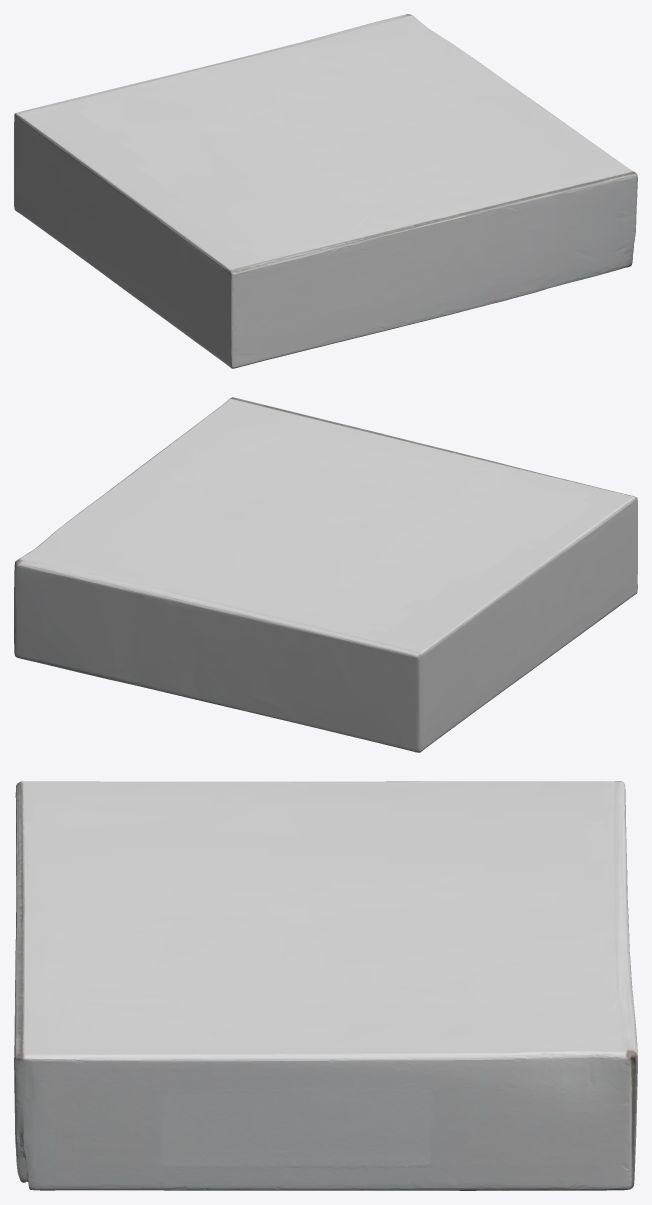
3 views of the same model, one above another, from view 1: azimuth 30°, elevation 25°; view 2: azimuth 150°, elevation 25°; view 3: azimuth 270°, elevation 25° (orthographic). The views are drawn at different scales.
Parts seen in each view (by area): view 1: geometry_0; view 2: geometry_0; view 3: geometry_0.
Boxes of the visible parts, x1,y1,x2,y2 form: geometry_0: (14,14,637,368); geometry_0: (14,397,637,752); geometry_0: (14,781,637,1190).
Bounding box in the file's own units: 0.9976 × 0.2329 × 0.9505.
1 material, 1 textured.
